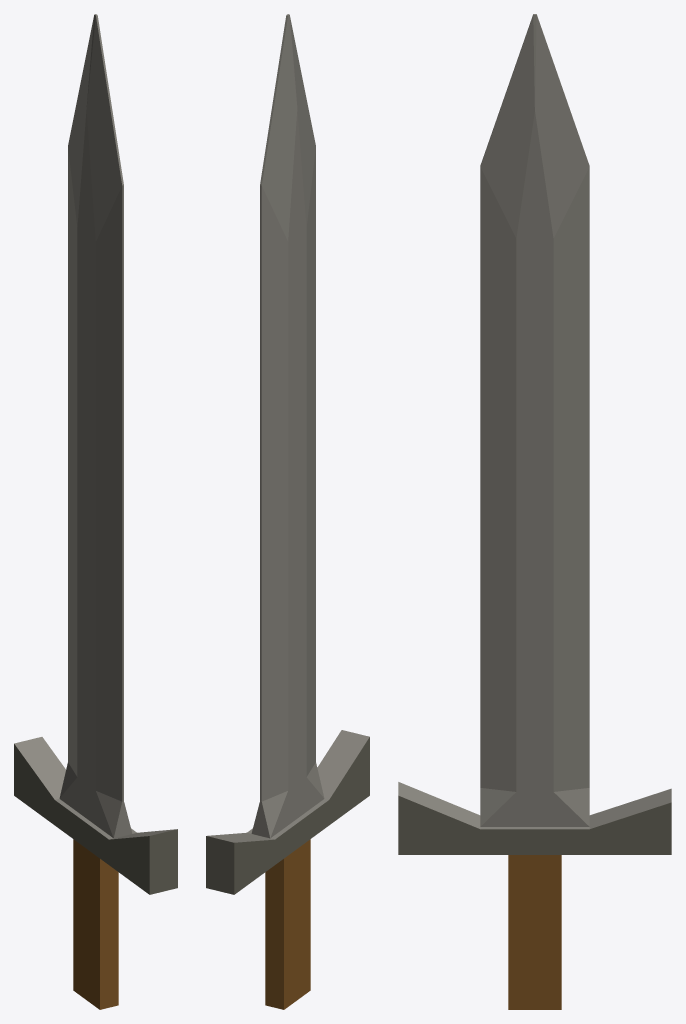
File: IronSword.fbx
3 renders of one model, left to right at view 1: azimuth 30°, elevation 25°; view 2: azimuth 150°, elevation 25°; view 3: azimuth 270°, elevation 25°, orthographic.
Parts seen in each view (by area): view 1: Sword; view 2: Sword; view 3: Sword.
Part boxes in pixels (x1,y1,x2,y2): Sword: [14, 14, 177, 1009]; Sword: [206, 14, 369, 1009]; Sword: [398, 14, 671, 1009].
Bounding box in the file's own units: 60 × 2000 × 500.
